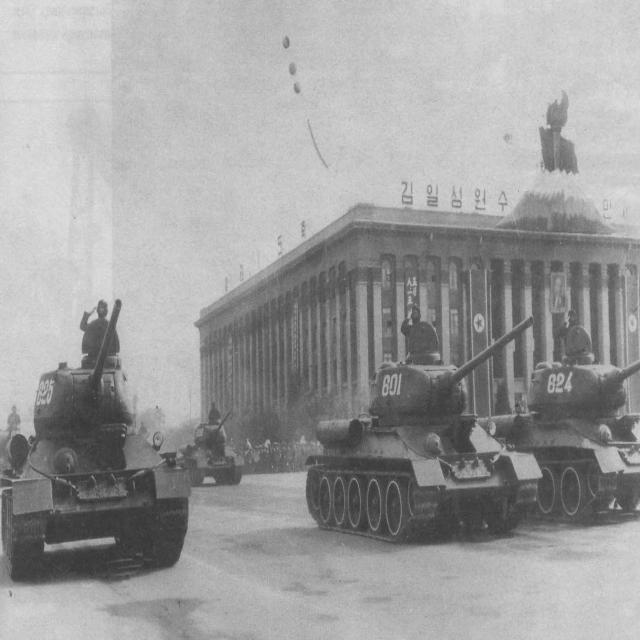north tank: (295, 342, 553, 572), (0, 350, 212, 597), (477, 337, 640, 549), (164, 401, 262, 498)
